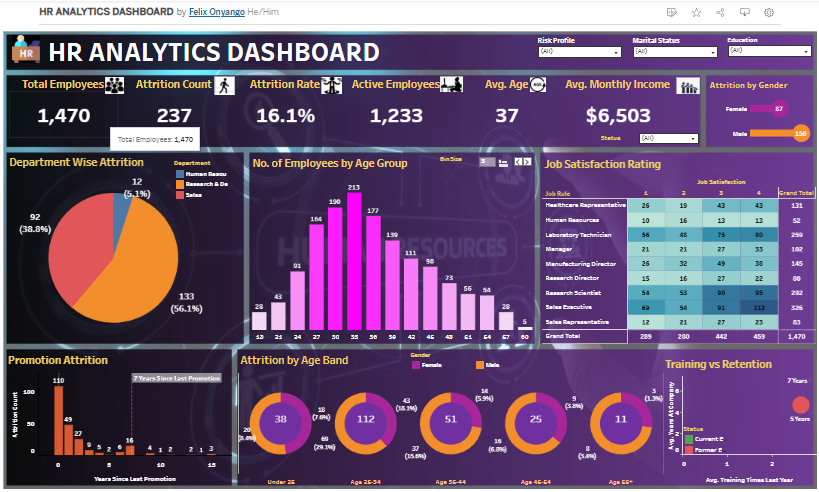

The dashboard page shown, as its layout file describes it:
{"tool":"tableau","page":{"name":"HR ANALTICS DASHBOARD","canvas":[1560,900],"ordinal":0},"visuals":[{"type":"image","param":"C:/Users/admin/Downloads/HR background.pptx.png","box":[8,8,1544,884]},{"type":"image","param":"C:/Users/admin/OneDrive/Pictures/Picture2.png","box":[28,19,53,53]},{"type":"filter","title":"Age Distribution","param":"[federated.0jca4gn15iqaw51719bvo0kvxm1d].[none:Education:nk]","box":[1378,19,160,52]},{"type":"filter","title":"Department Wise Attrition","param":"[federated.0jca4gn15iqaw51719bvo0kvxm1d].[none:Calculation_133982149289504769:nk","box":[1020,20,160,48]},{"type":"filter","title":"Age Distribution","param":"[federated.0jca4gn15iqaw51719bvo0kvxm1d].[none:MaritalStatus:nk]","box":[1199,20,163,46]},{"type":"text","box":[96,23,641,49]},{"type":"worksheet","title":"Attrition by Gender","mark":"Automatic","rows":["Gender"],"cols":["Calculation_434315949098868737","Calculation_434315949098868737"],"box":[1341,96,199,131]},{"type":"image","param":"C:/Users/admin/OneDrive/Pictures/Screenshot 2026-04-16 122716.png","box":[410,97,39,36]},{"type":"image","param":"C:/Users/admin/OneDrive/Pictures/Picture6.png","box":[836,97,45,30]},{"type":"image","param":"C:/Users/admin/OneDrive/Pictures/Picture3.png","box":[204,98,41,36]},{"type":"image","param":"C:/Users/admin/OneDrive/Pictures/Picture7.png","box":[612,98,39,33]},{"type":"worksheet","title":"KPI","mark":"Automatic","box":[20,99,1255,115]},{"type":"image","param":"C:/Users/admin/OneDrive/Pictures/Picture8.png","box":[1005,99,32,32]},{"type":"image","param":"C:/Users/admin/OneDrive/Pictures/Picture5.png","box":[1282,99,44,32]},{"type":"filter","title":"KPI","param":"[federated.0jca4gn15iqaw51719bvo0kvxm1d].[none:Status:nk]","box":[1139,203,186,24]},{"type":"worksheet","title":"Department Wise Attrition","mark":"Pie","box":[19,239,447,362]},{"type":"worksheet","title":"Age Distribution","mark":"Automatic","rows":["EmployeeNo."],"cols":["Age (bin)"],"box":[478,242,536,354]},{"type":"worksheet","title":"Job Satisfaction Rating","mark":"Square","rows":["JobRole"],"cols":["JobSatisfaction"],"box":[1029,243,517,358]},{"type":"parameter","param":"[Parameters].[Parameter 1]","box":[836,248,174,26]},{"type":"legend","title":"Department Wise Attrition","param":"[federated.0jca4gn15iqaw51719bvo0kvxm1d].[none:Department:nk]","box":[334,251,132,78]},{"type":"worksheet","title":"Promotion Attrition","mark":"Bar","rows":["Calculation_434315949098868737"],"cols":["YearsSinceLastPromotion"],"box":[17,613,427,257]},{"type":"worksheet","title":"Attrition by Age Band","mark":"Pie","rows":["Calculation_133982149312765956","Calculation_133982149312765956"],"cols":["Calculation_133982149310885890"],"box":[455,613,803,257]},{"type":"legend","title":"Attrition by Age Band","param":"[federated.0jca4gn15iqaw51719bvo0kvxm1d].[none:Gender:nk]","box":[780,615,301,43]},{"type":"worksheet","title":"Training vs Retention","mark":"Circle","rows":["YearsAtCompany"],"cols":["TrainingTimesLastYear"],"box":[1257,620,290,252]},{"type":"legend","title":"Training vs Retention","param":"[federated.0jca4gn15iqaw51719bvo0kvxm1d].[none:Status:nk]","box":[1295,752,110,58]}]}

Visuals, with their boxes in screenshot pixels (x1, y1, x2, y2):
image: [x1=0, y1=23, x2=818, y2=491]
image: [x1=11, y1=29, x2=39, y2=58]
"Age Distribution" filter: [x1=735, y1=29, x2=818, y2=57]
"Department Wise Attrition" filter: [x1=543, y1=30, x2=629, y2=56]
"Age Distribution" filter: [x1=639, y1=30, x2=727, y2=55]
text: [x1=47, y1=32, x2=391, y2=58]
"Attrition by Gender" worksheet: [x1=716, y1=71, x2=818, y2=141]
image: [x1=216, y1=71, x2=237, y2=91]
image: [x1=444, y1=71, x2=469, y2=87]
image: [x1=105, y1=72, x2=127, y2=91]
image: [x1=324, y1=72, x2=345, y2=90]
"KPI" worksheet: [x1=6, y1=72, x2=680, y2=134]
image: [x1=535, y1=72, x2=552, y2=90]
image: [x1=684, y1=72, x2=707, y2=90]
"KPI" filter: [x1=607, y1=128, x2=707, y2=141]
"Department Wise Attrition" worksheet (Pie marks): [x1=6, y1=147, x2=246, y2=342]
"Age Distribution" worksheet: [x1=252, y1=149, x2=540, y2=339]
"Job Satisfaction Rating" worksheet (Square marks): [x1=548, y1=150, x2=818, y2=342]
parameter: [x1=444, y1=152, x2=538, y2=166]
"Department Wise Attrition" legend: [x1=175, y1=154, x2=246, y2=196]
"Promotion Attrition" worksheet (Bar marks): [x1=5, y1=348, x2=234, y2=486]
"Attrition by Age Band" worksheet (Pie marks): [x1=240, y1=348, x2=671, y2=486]
"Attrition by Age Band" legend: [x1=414, y1=349, x2=576, y2=372]
"Training vs Retention" worksheet (Circle marks): [x1=670, y1=352, x2=818, y2=487]
"Training vs Retention" legend: [x1=691, y1=423, x2=750, y2=454]
